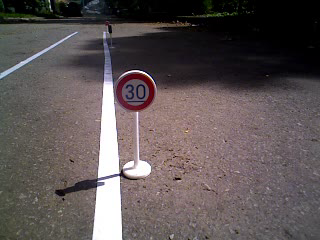limit 30: (111, 69, 159, 114)
